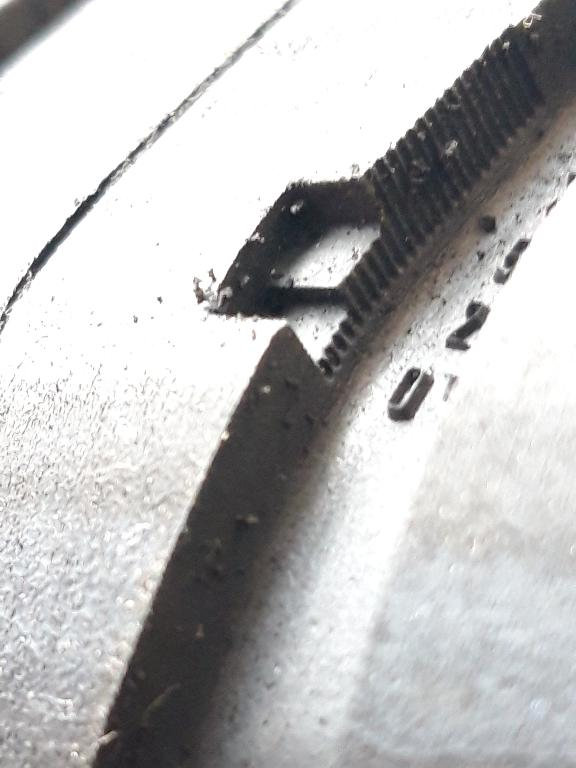temoin:50: (194, 124, 456, 392)
